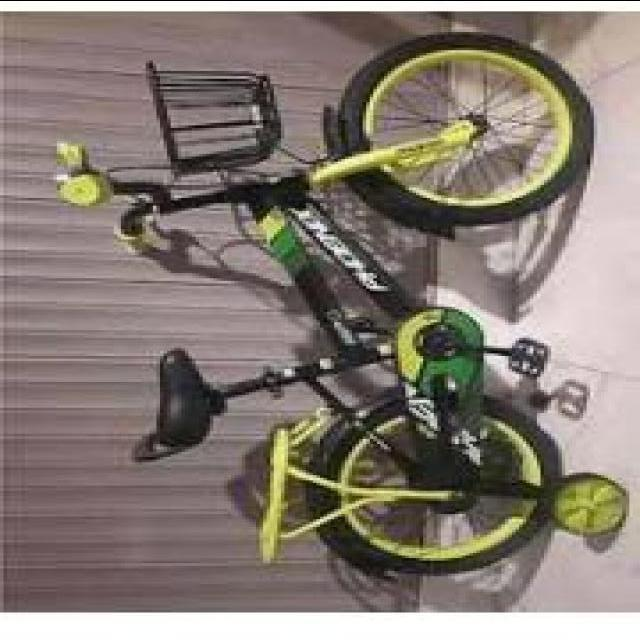bicycle: (122, 53, 598, 579)
